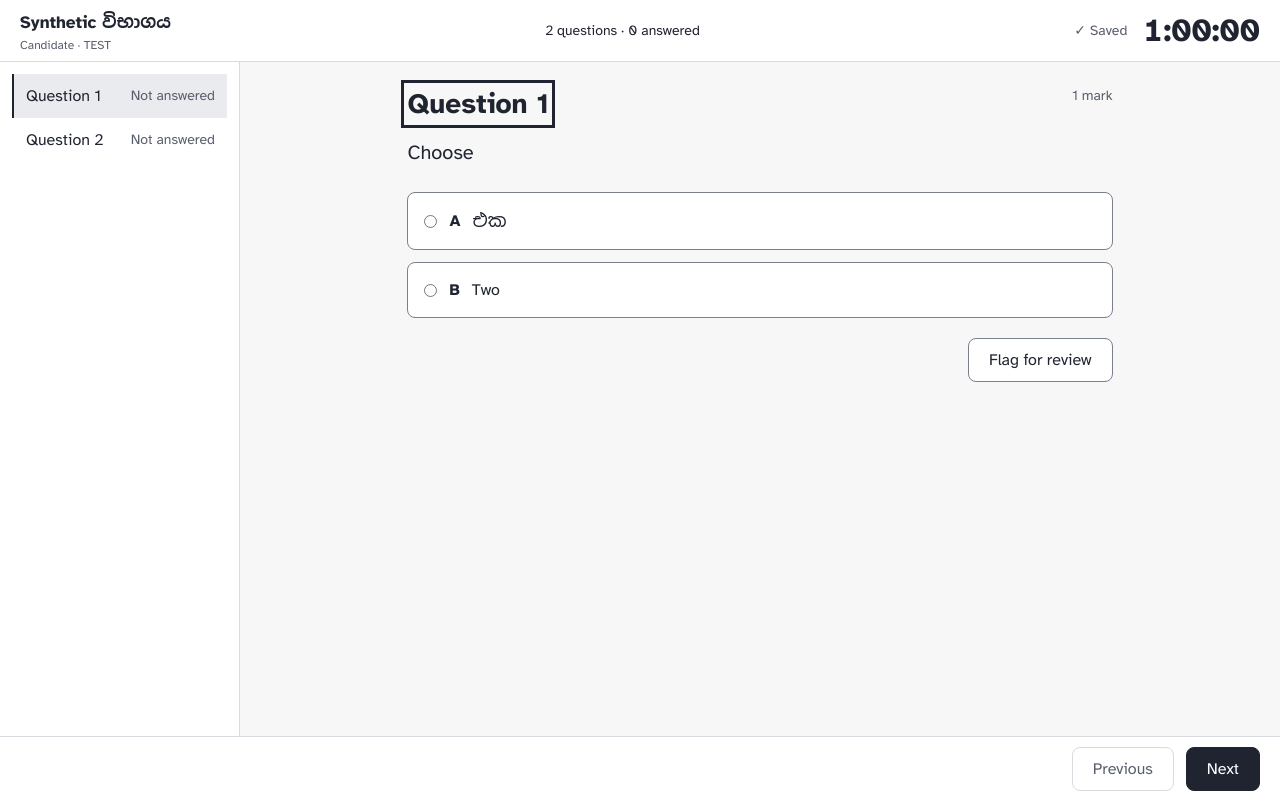
Test: ExamScreen › saves free-mode answers, navigates locally, and ignores current_position
The image size is (1280, 800).
Expected: the text "Candidate · TEST" is shown, [20,38,111,52]
Expected: the heading "Question 1" is shown, [408,86,549,122]
Click the radio button labelled "A එක" at (431,221), box [424,215,438,228]
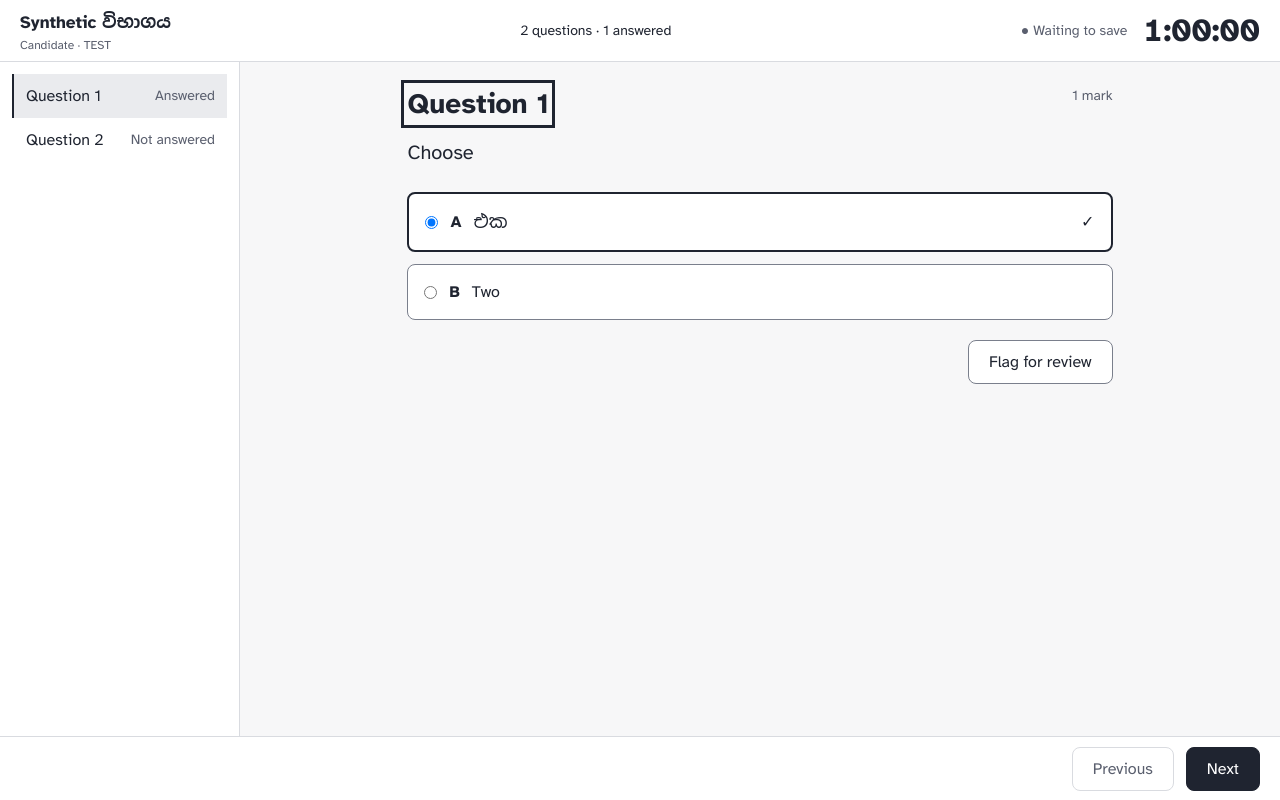
Click the button "Next" at (1223,768), box [1186,746,1260,790]
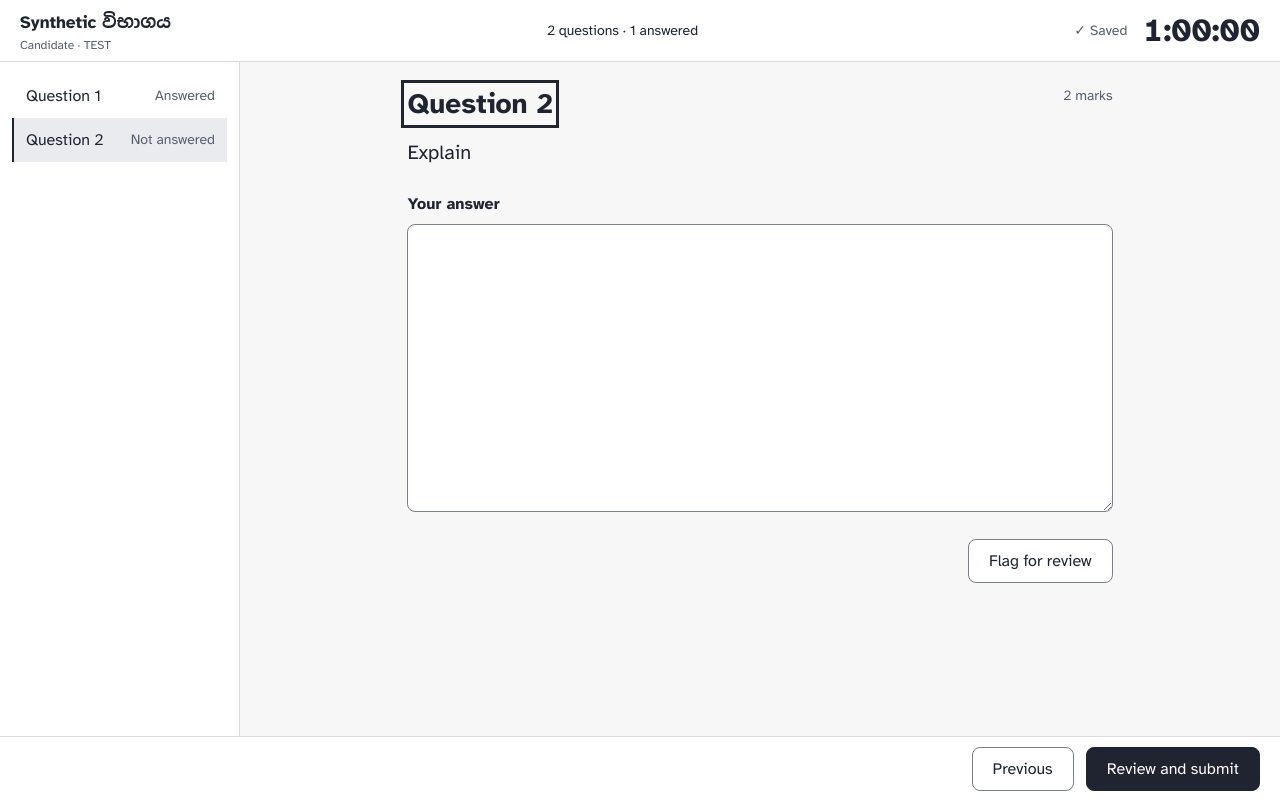
Now the heading "Question 2" is shown, box [408,86,553,122]
Type "Synthetic answer" into the text box labelled "Your answer" at (760,368), box [408,224,1112,512]
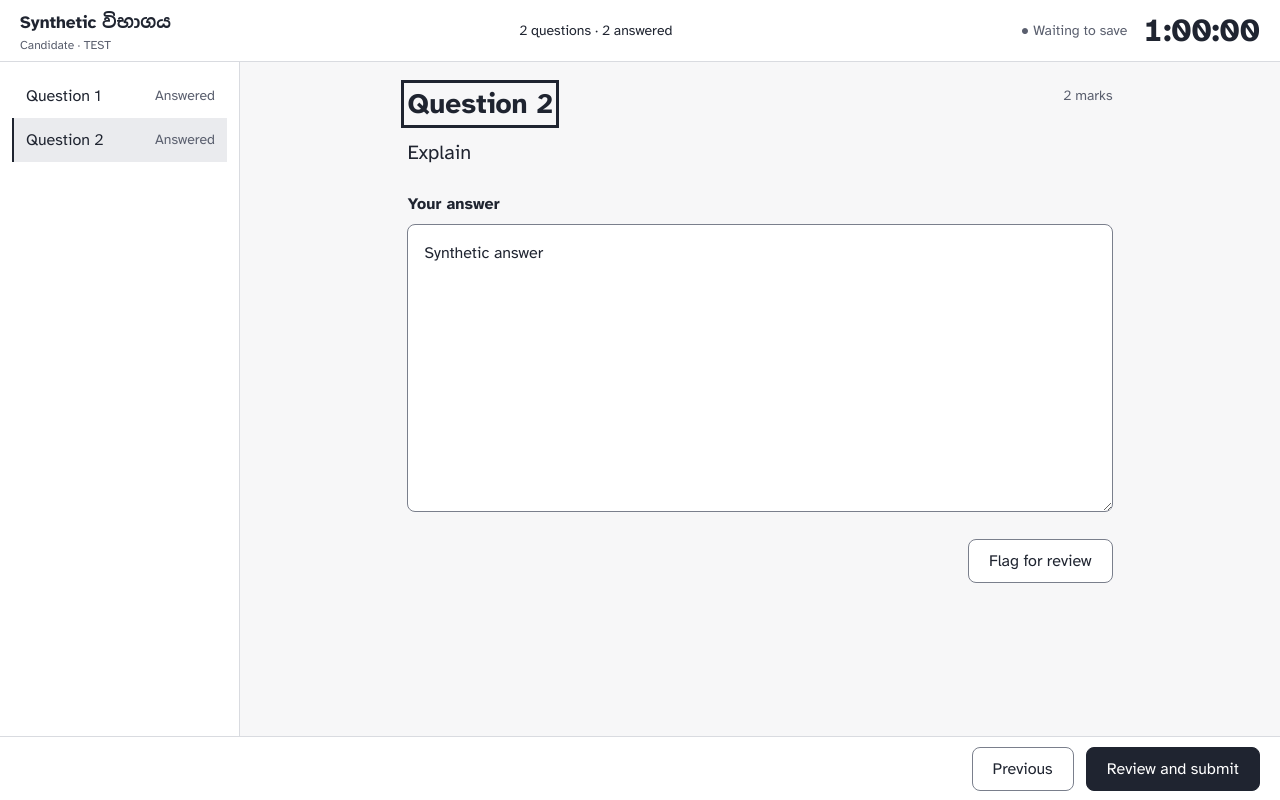
Click the button "Review and submit" at (1173,768), box [1086,746,1260,790]
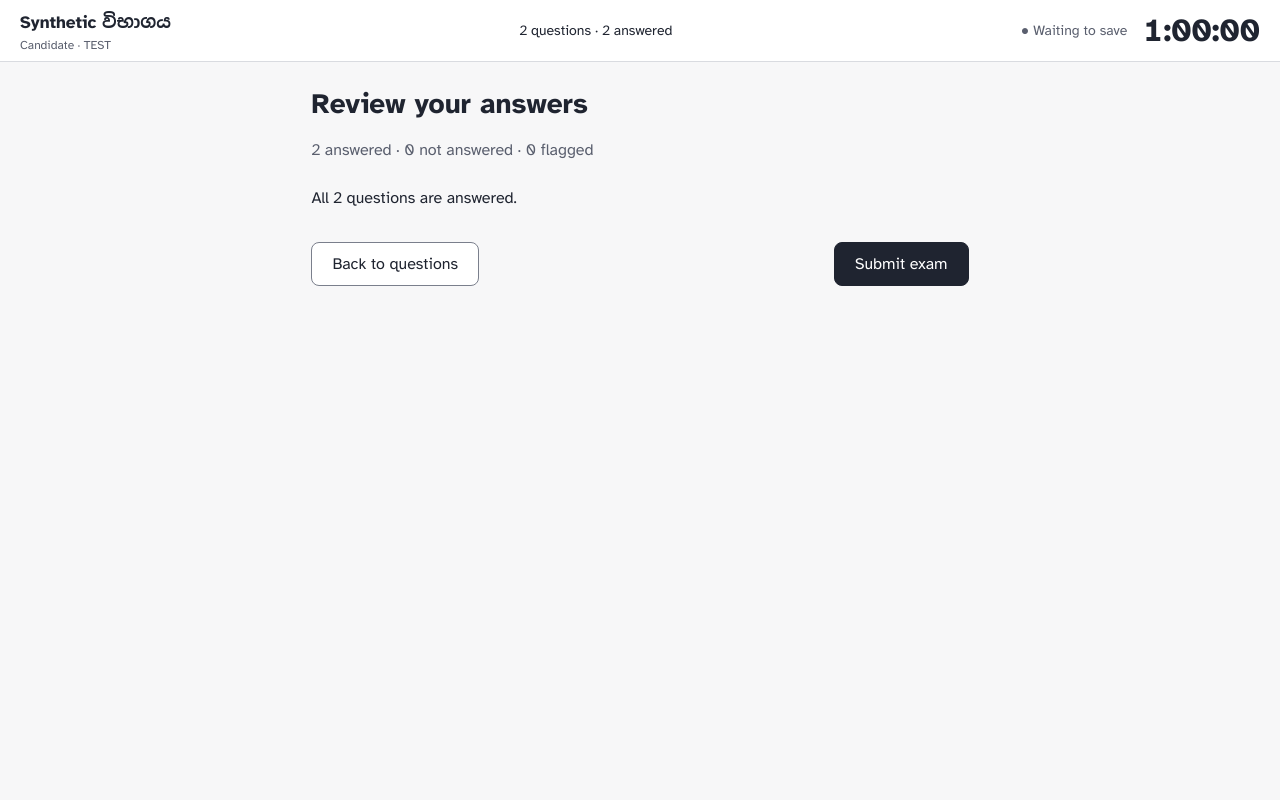
Now the heading "Review your answers" is shown, box [312,86,588,121]
Now the button "Submit exam" is enabled, box [834,242,968,286]
